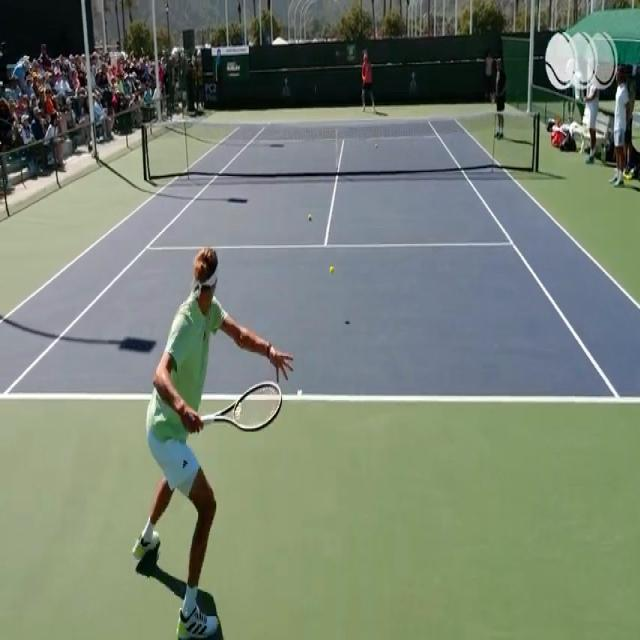forehand-ready: (133, 251, 283, 637)
